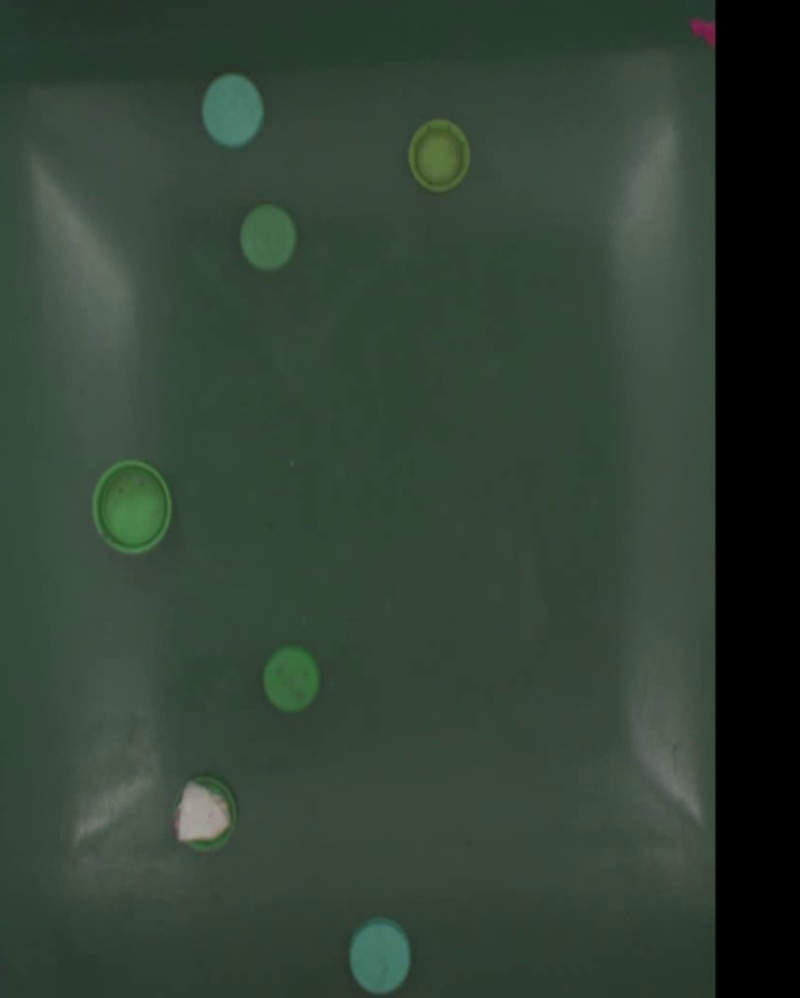Others: (91, 460, 173, 554), (200, 74, 264, 149), (348, 917, 412, 992), (407, 120, 471, 192), (174, 778, 237, 848), (262, 648, 321, 713), (239, 207, 298, 272)
